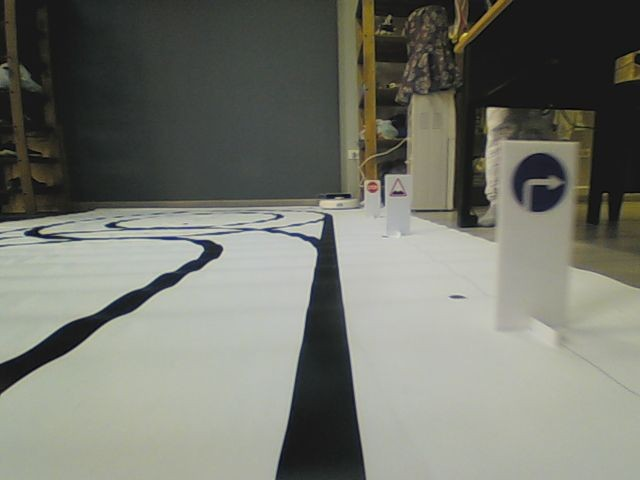Nerov: (388, 176, 407, 197)
Right: (510, 152, 568, 214)
